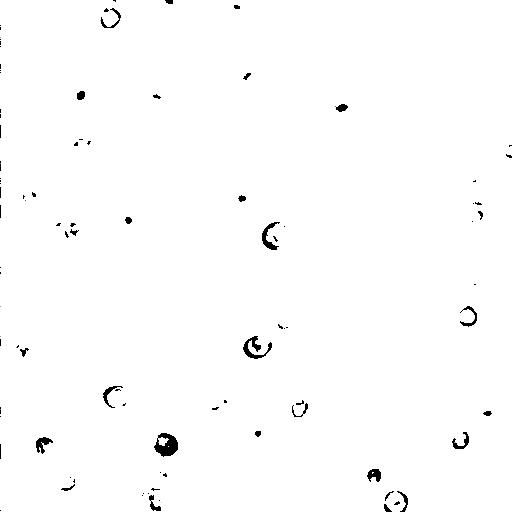micro-algae: (5, 63, 94, 152), (78, 419, 160, 499), (352, 58, 427, 139), (6, 373, 60, 426), (22, 474, 90, 511), (474, 92, 512, 155), (111, 370, 160, 417), (1, 120, 40, 179), (79, 342, 128, 386), (395, 478, 455, 511), (51, 0, 123, 27), (146, 311, 188, 356), (224, 57, 270, 96), (320, 87, 364, 123), (160, 352, 199, 390), (240, 0, 292, 27), (457, 199, 492, 234), (21, 175, 57, 208), (260, 218, 294, 251), (110, 202, 142, 234), (139, 484, 174, 512), (68, 131, 100, 160), (468, 401, 501, 429), (42, 206, 72, 235), (242, 332, 273, 360), (234, 486, 267, 512), (1, 194, 28, 225), (152, 430, 180, 458), (458, 279, 487, 306), (248, 414, 273, 445), (31, 434, 59, 460), (69, 84, 94, 113), (202, 392, 228, 419), (128, 388, 155, 414), (102, 384, 130, 409), (382, 489, 410, 512), (466, 172, 490, 198), (61, 220, 89, 242), (496, 80, 512, 116), (456, 304, 479, 328), (13, 340, 34, 365), (224, 0, 254, 17), (99, 7, 122, 29), (266, 89, 287, 110), (451, 429, 471, 450), (152, 0, 186, 12), (291, 398, 310, 419), (56, 475, 78, 492), (366, 467, 384, 486), (154, 466, 172, 484), (277, 312, 294, 331), (231, 192, 252, 207), (437, 66, 452, 83), (502, 142, 512, 158), (5, 0, 27, 7)
